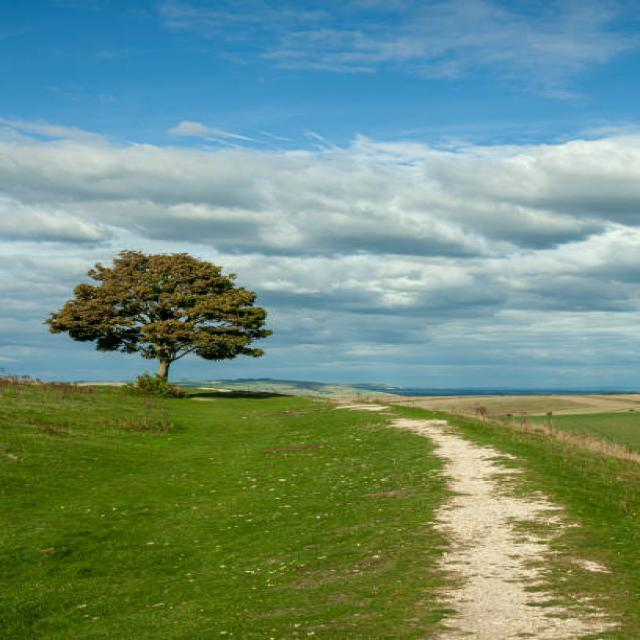tree: (60, 248, 268, 396)
